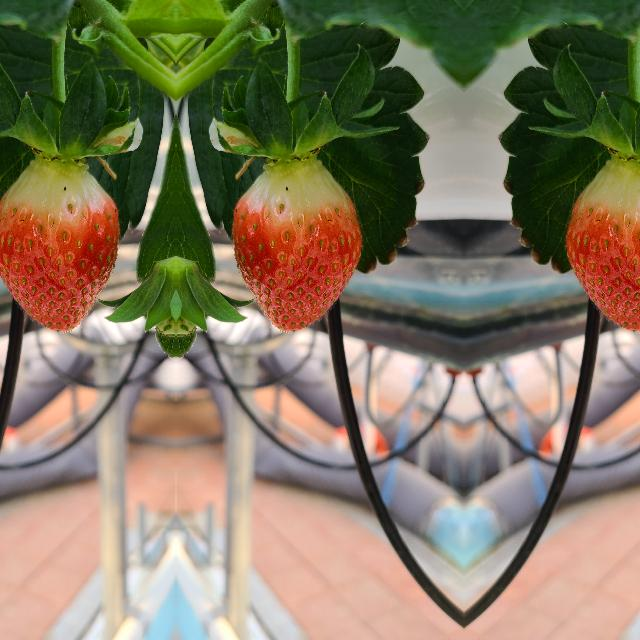Health_100: (227, 163, 363, 333), (0, 163, 123, 333), (563, 163, 640, 333)
